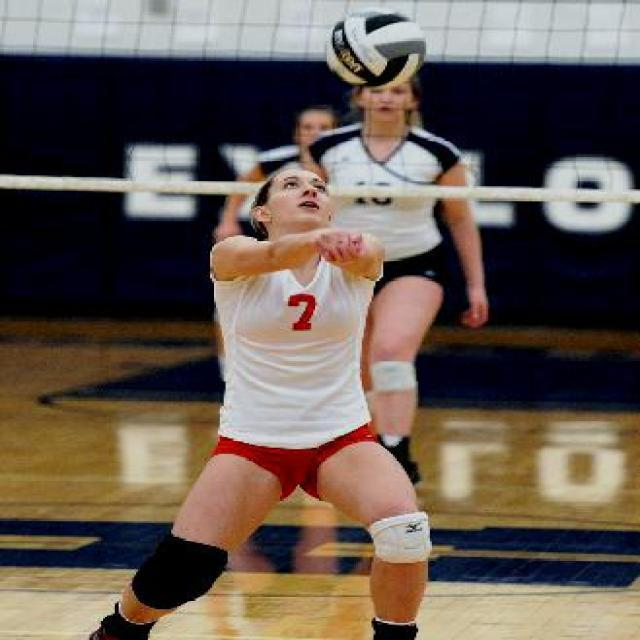volleyball: (326, 8, 426, 92)
